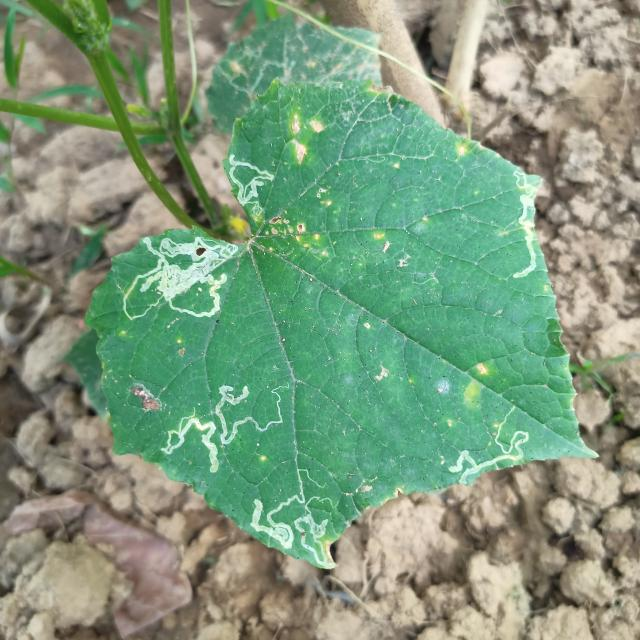disease_cucumber: (268, 214, 327, 255), (458, 358, 492, 421), (285, 114, 325, 167)
